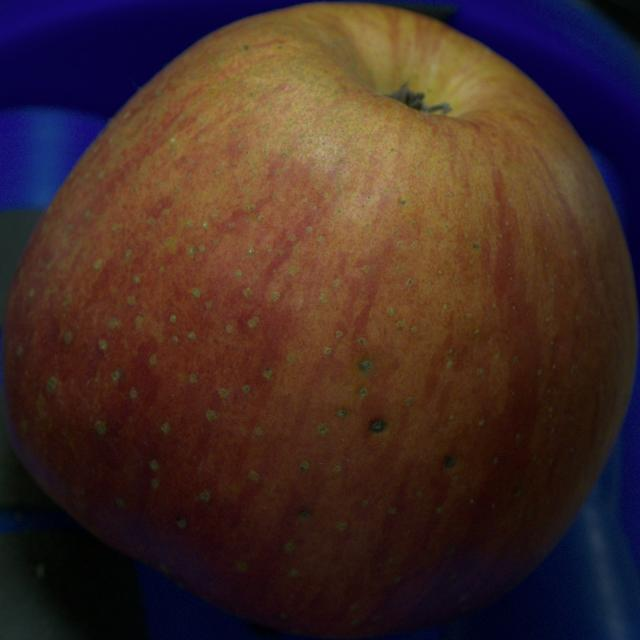apple: (2, 3, 638, 638)
pest: (369, 419, 387, 433), (443, 457, 456, 469), (299, 511, 310, 518)
